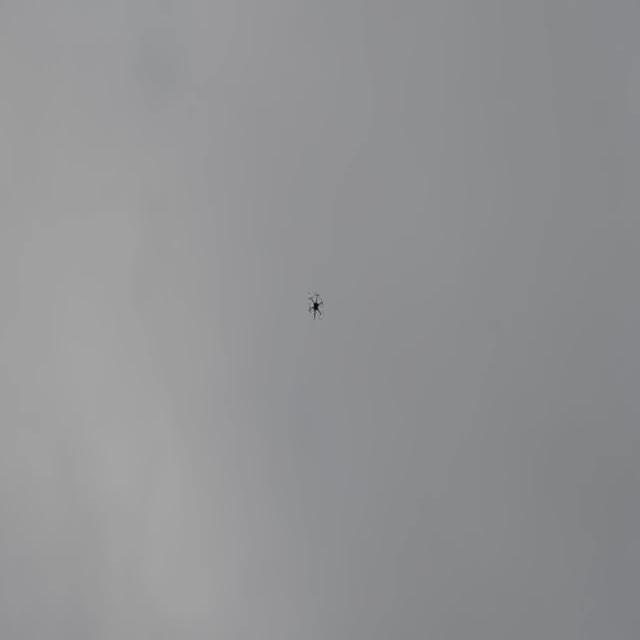drone: (308, 290, 324, 319)
